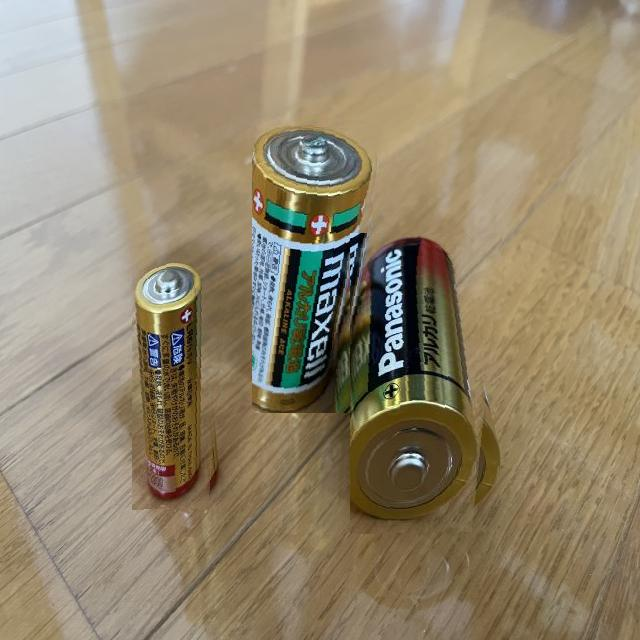battery: (350, 234, 503, 536), (252, 112, 384, 414), (132, 262, 230, 510)
